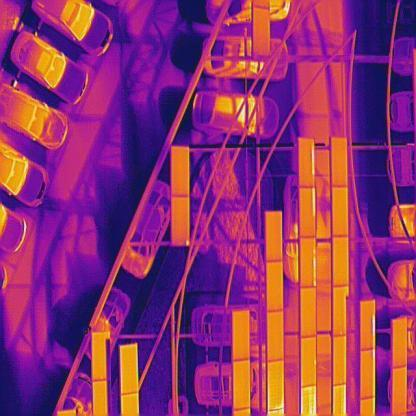Diode: (298, 138, 316, 189), (300, 186, 316, 237), (268, 359, 284, 410), (360, 300, 376, 350), (300, 238, 316, 286), (360, 350, 375, 398)
Hotspot: (300, 338, 318, 388), (172, 197, 190, 246)
Normal: (264, 210, 283, 261), (266, 260, 284, 310), (232, 310, 250, 360), (120, 345, 138, 395), (331, 136, 348, 186), (332, 236, 349, 286), (267, 311, 284, 361), (233, 360, 250, 410), (332, 186, 349, 235), (172, 146, 188, 196), (300, 286, 316, 336), (254, 6, 270, 54), (332, 288, 348, 336), (392, 320, 408, 368), (392, 366, 408, 414), (92, 332, 106, 381), (332, 337, 346, 385)
